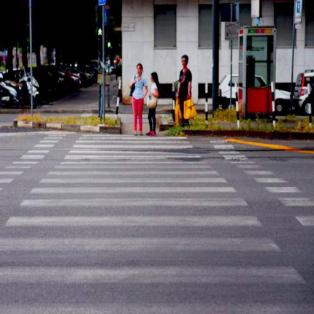Paso de Cebra: (3, 195, 263, 230), (64, 143, 202, 162)
